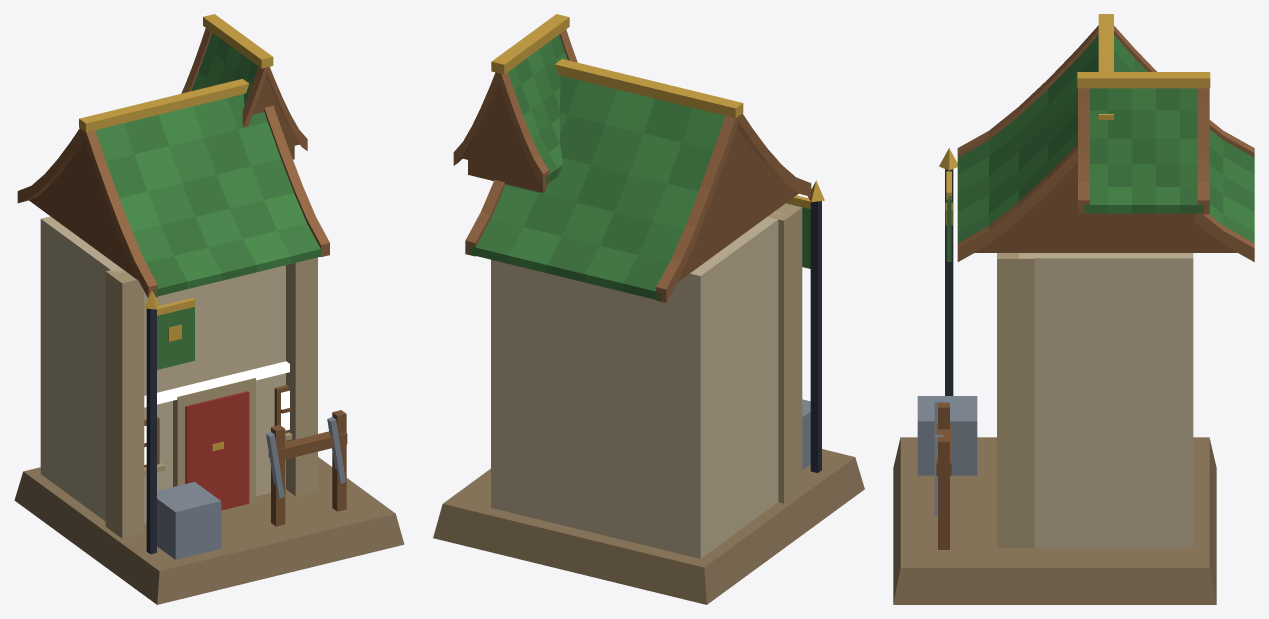
The model's file is camp_ranger_t3.glb.
The picture shows the model from 3 angles, left to right: view 1: azimuth 30°, elevation 25°; view 2: azimuth 150°, elevation 25°; view 3: azimuth 270°, elevation 25°; orthographic projection. The views are drawn at different scales.
Visible parts, largest first — view 1: body, glow; view 2: body; view 3: body.
Part boxes in pixels (left/top/right/bottom): body: left=14, top=14, right=404, bottom=604; glow: left=144, top=361, right=289, bottom=464; body: left=433, top=14, right=864, bottom=604; body: left=893, top=14, right=1254, bottom=604.
Bounding box in the file's own units: 1.9 × 3.23 × 2.12.
